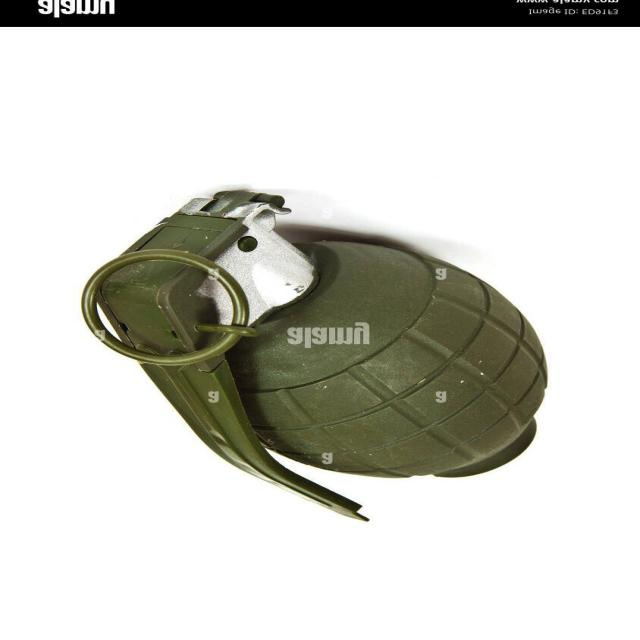grenade: (81, 192, 548, 523)
